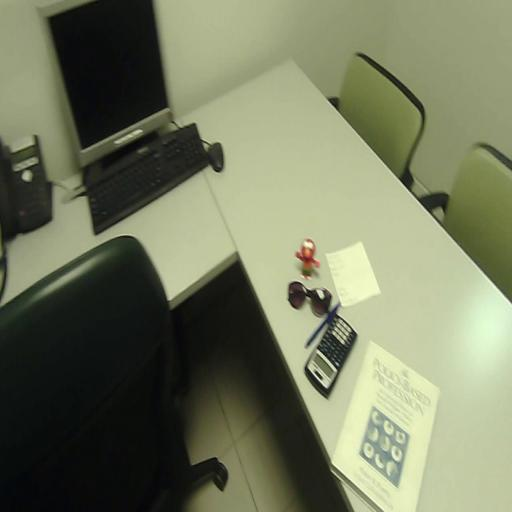pen: (304, 303, 340, 348)
